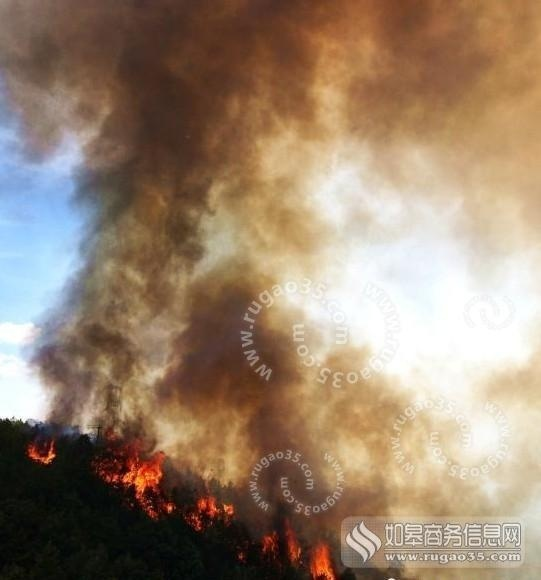fire: (56, 430, 241, 532), (258, 525, 338, 579), (24, 433, 58, 465)
